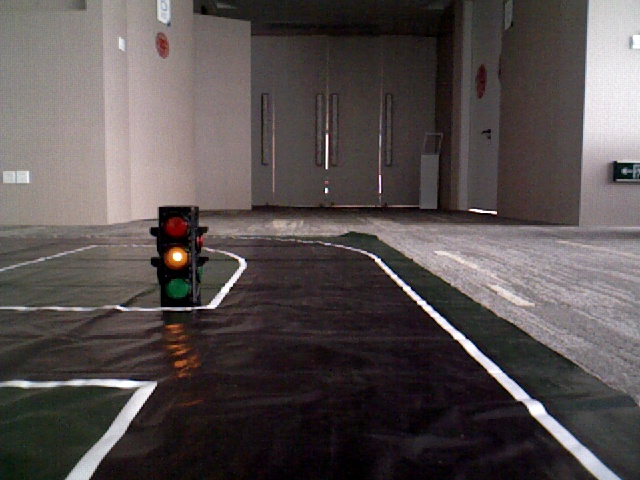yellow: (161, 211, 192, 304)
